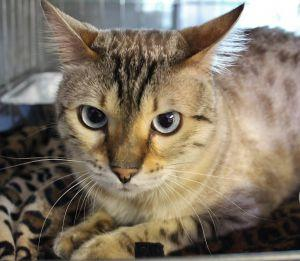bengal: (28, 1, 249, 200)
